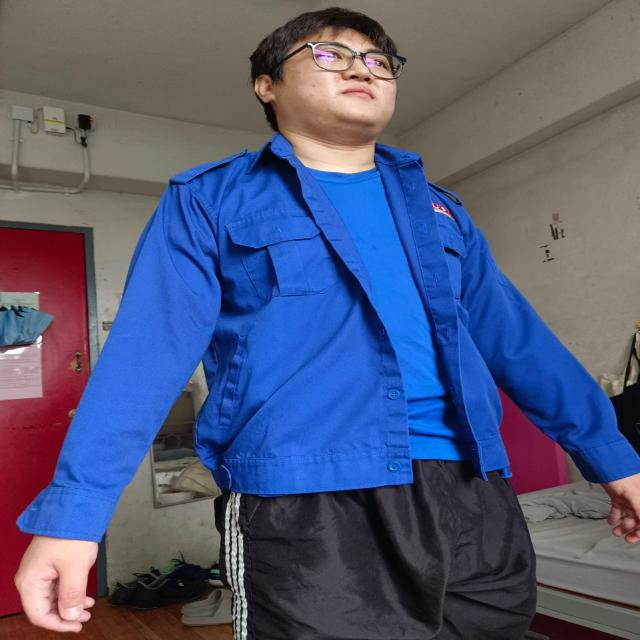person_with_labcoat: (16, 8, 639, 640)
